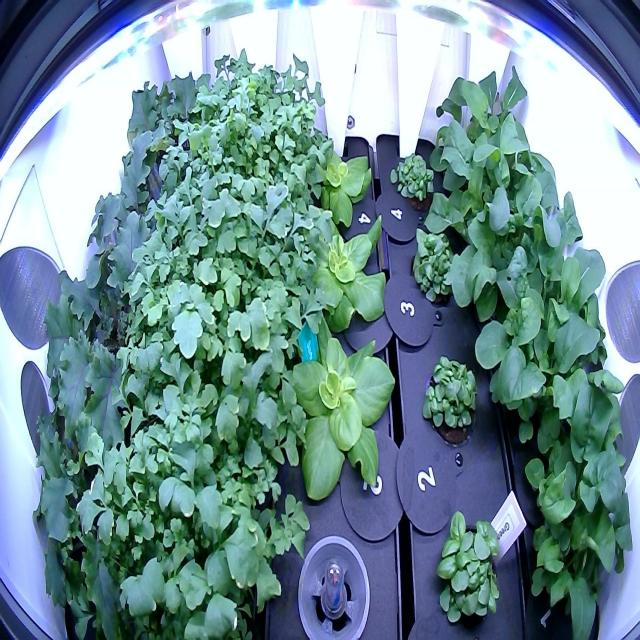young: (264, 303, 402, 509), (290, 204, 392, 348), (294, 133, 377, 237)
